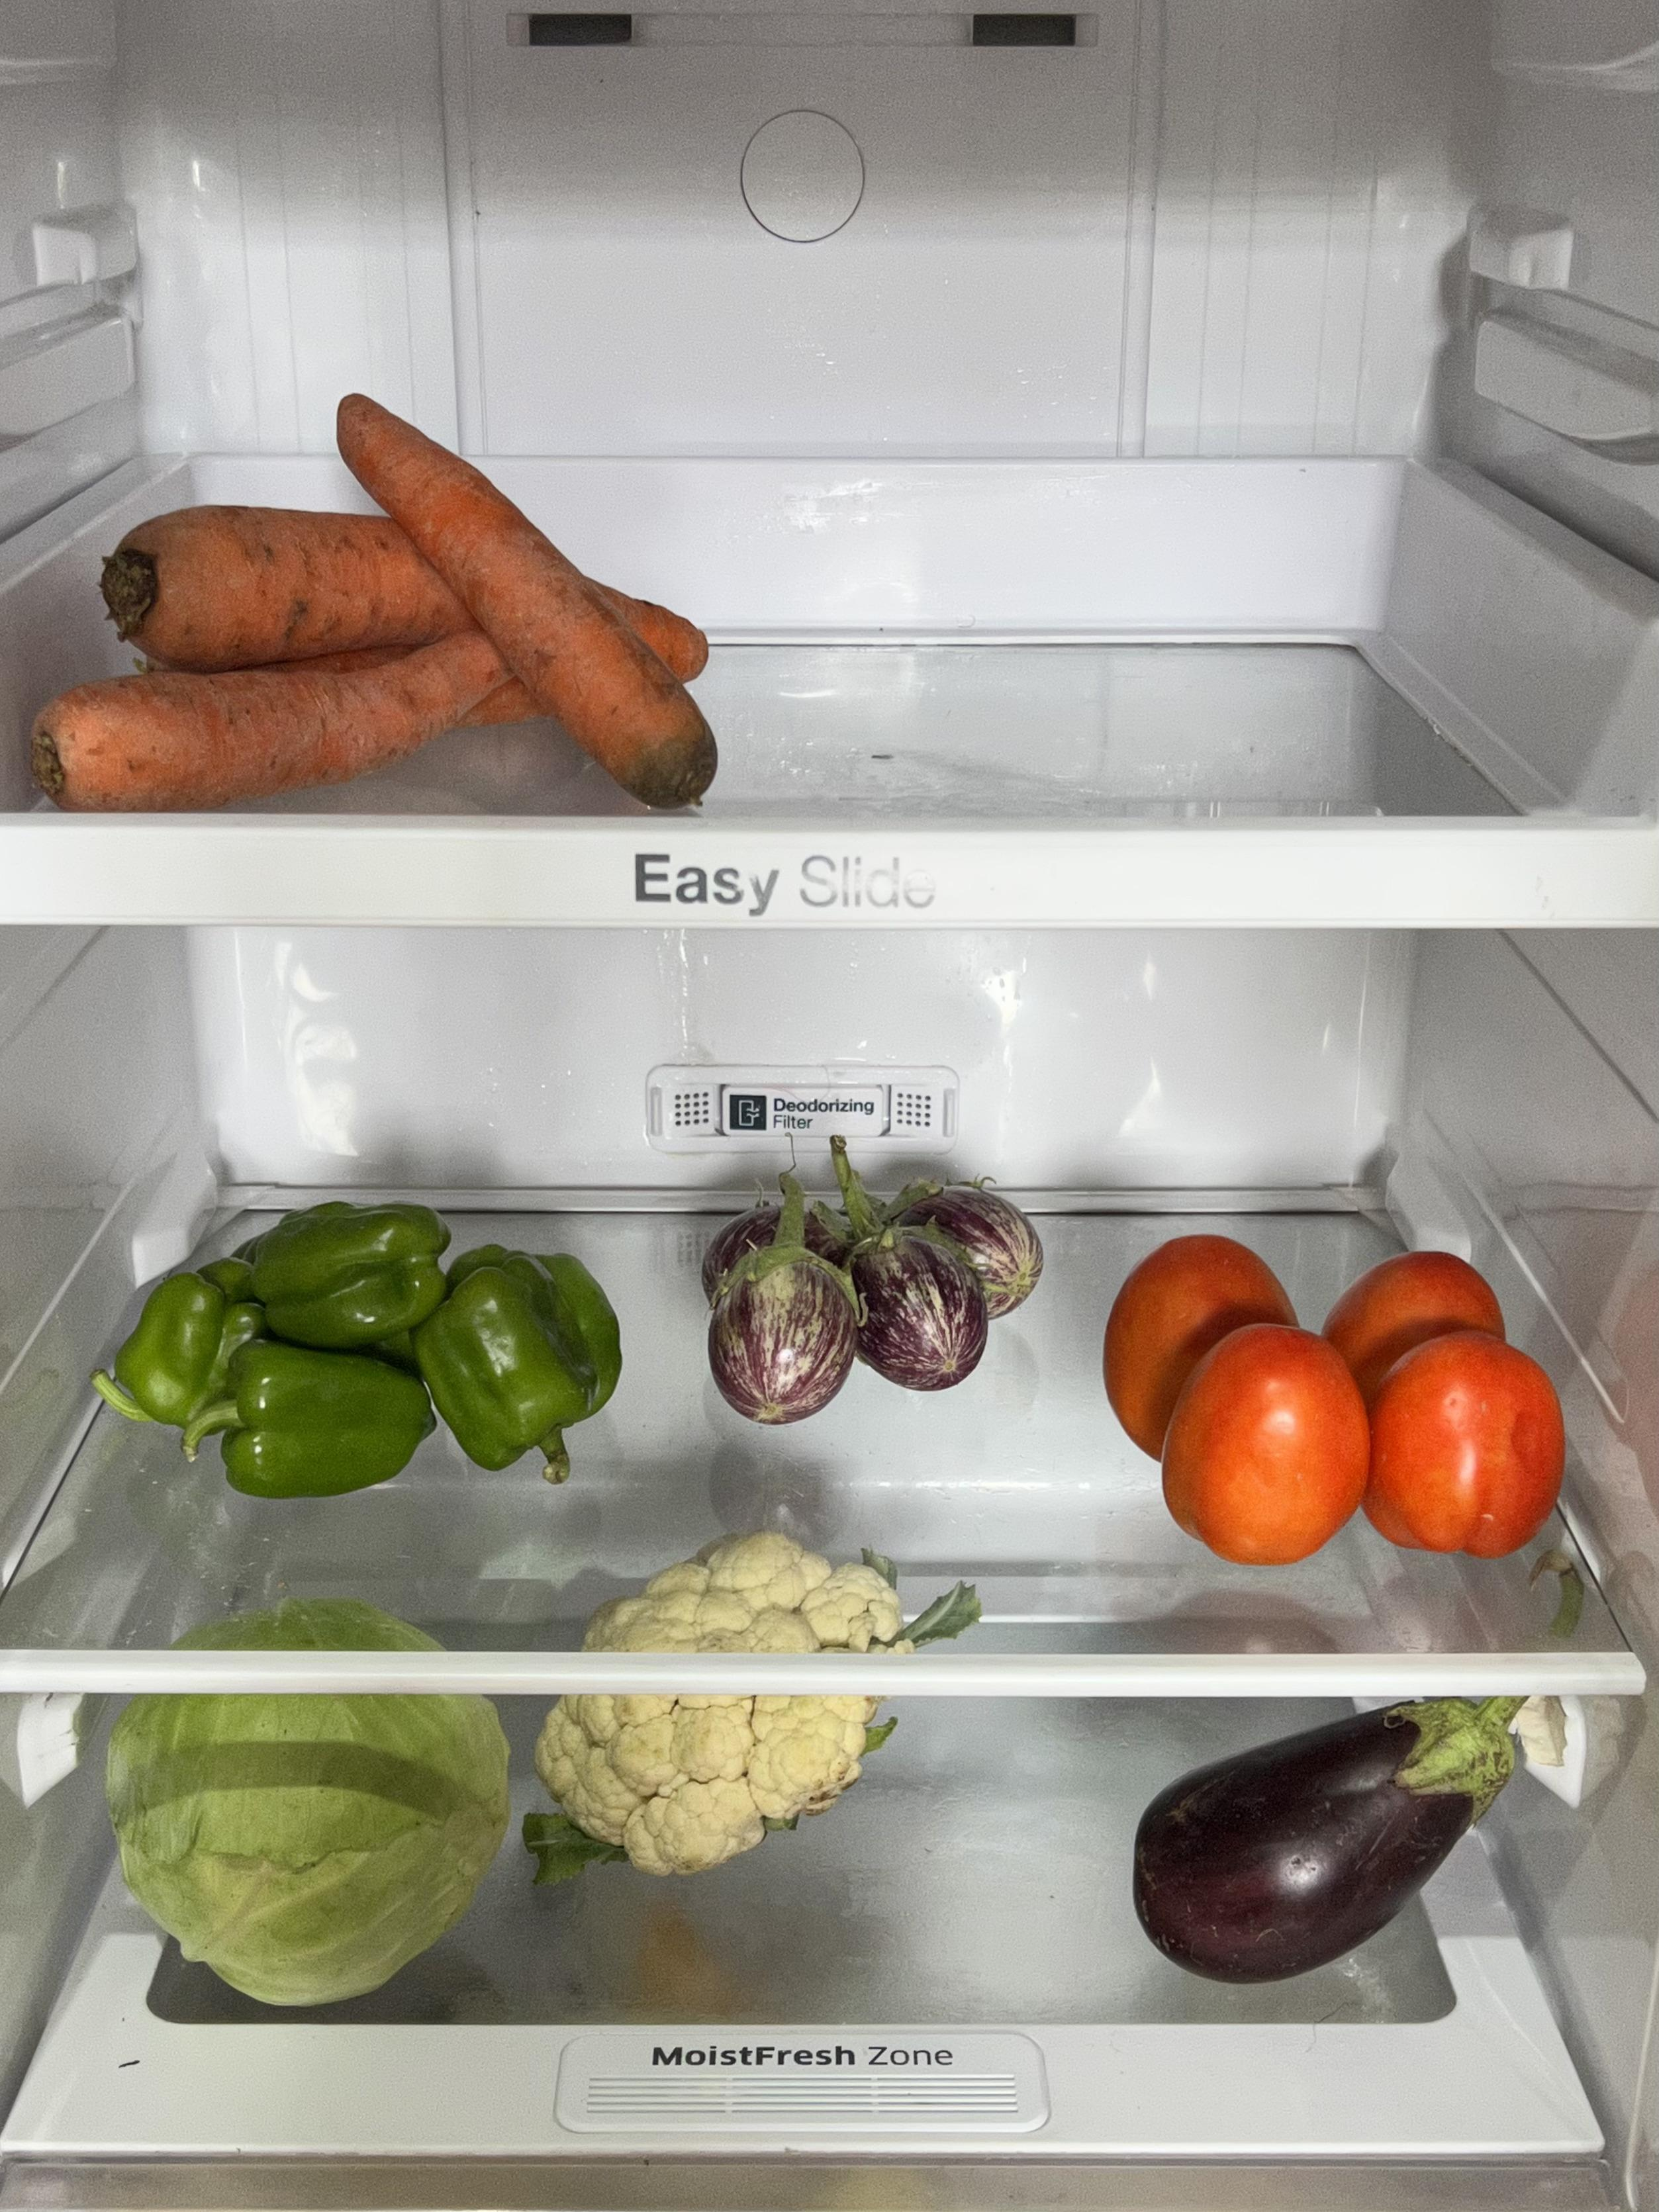bringal: (1129, 1693, 1507, 1982), (704, 1158, 1037, 1421)
cabbage: (101, 1689, 512, 1994)
capsicum: (108, 1197, 620, 1491)
carrots: (26, 467, 709, 810)
cauliflower: (525, 1521, 904, 1864)
tomato: (1105, 1231, 1560, 1562)
